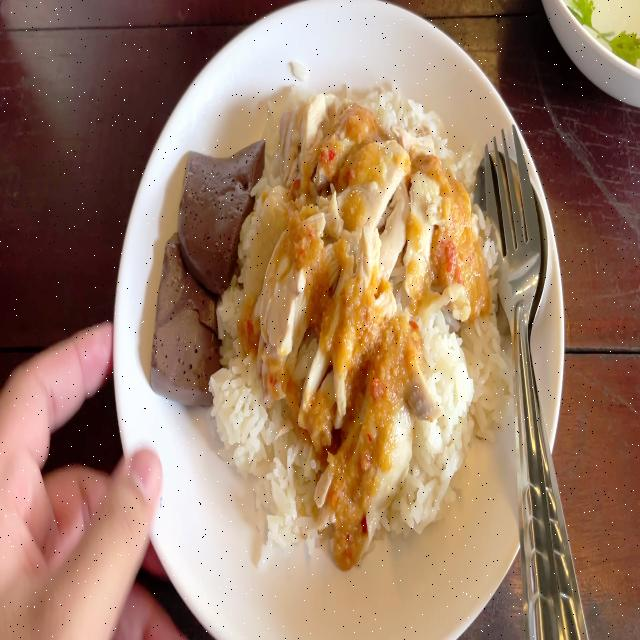boiled_chicken: (270, 95, 453, 474)
boiled_chicken_blood_jelly: (146, 235, 222, 408), (176, 142, 254, 276)
chicken_rice: (146, 56, 524, 553)
